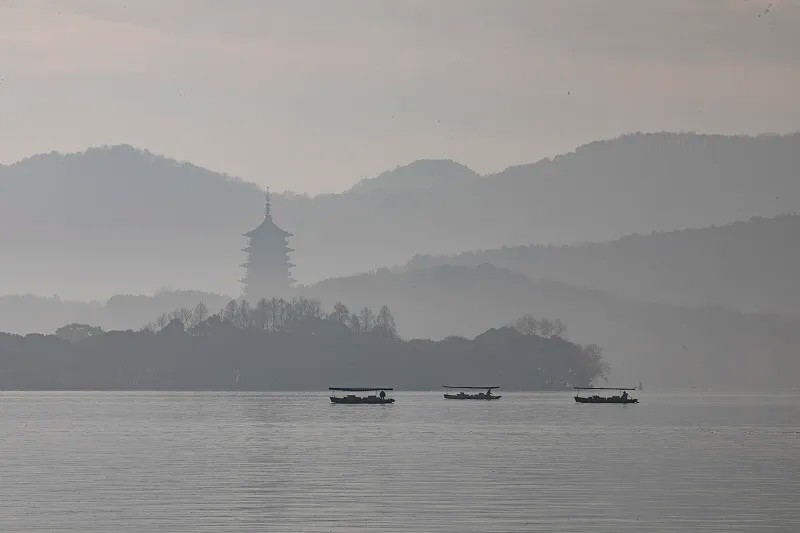Leifeng: (241, 186, 298, 307)
